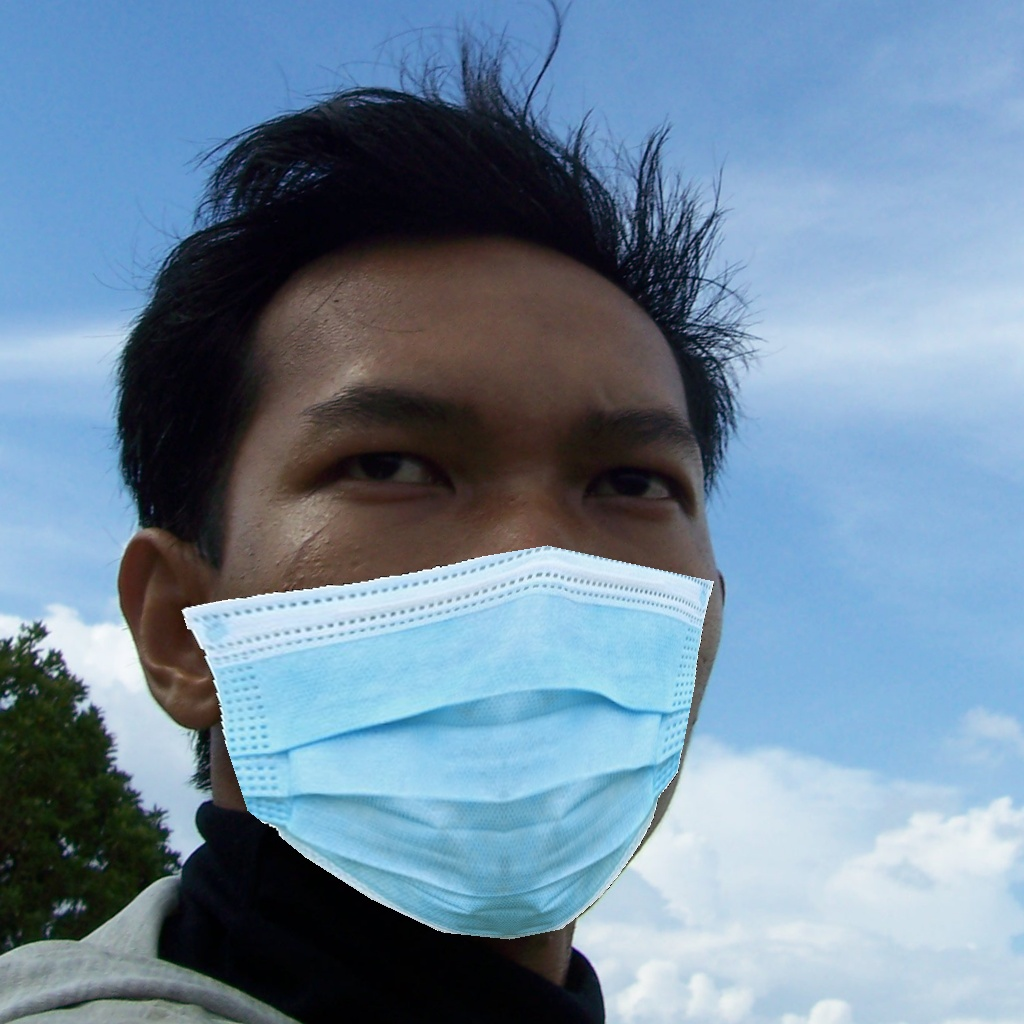Mask: (179, 369, 731, 940)
